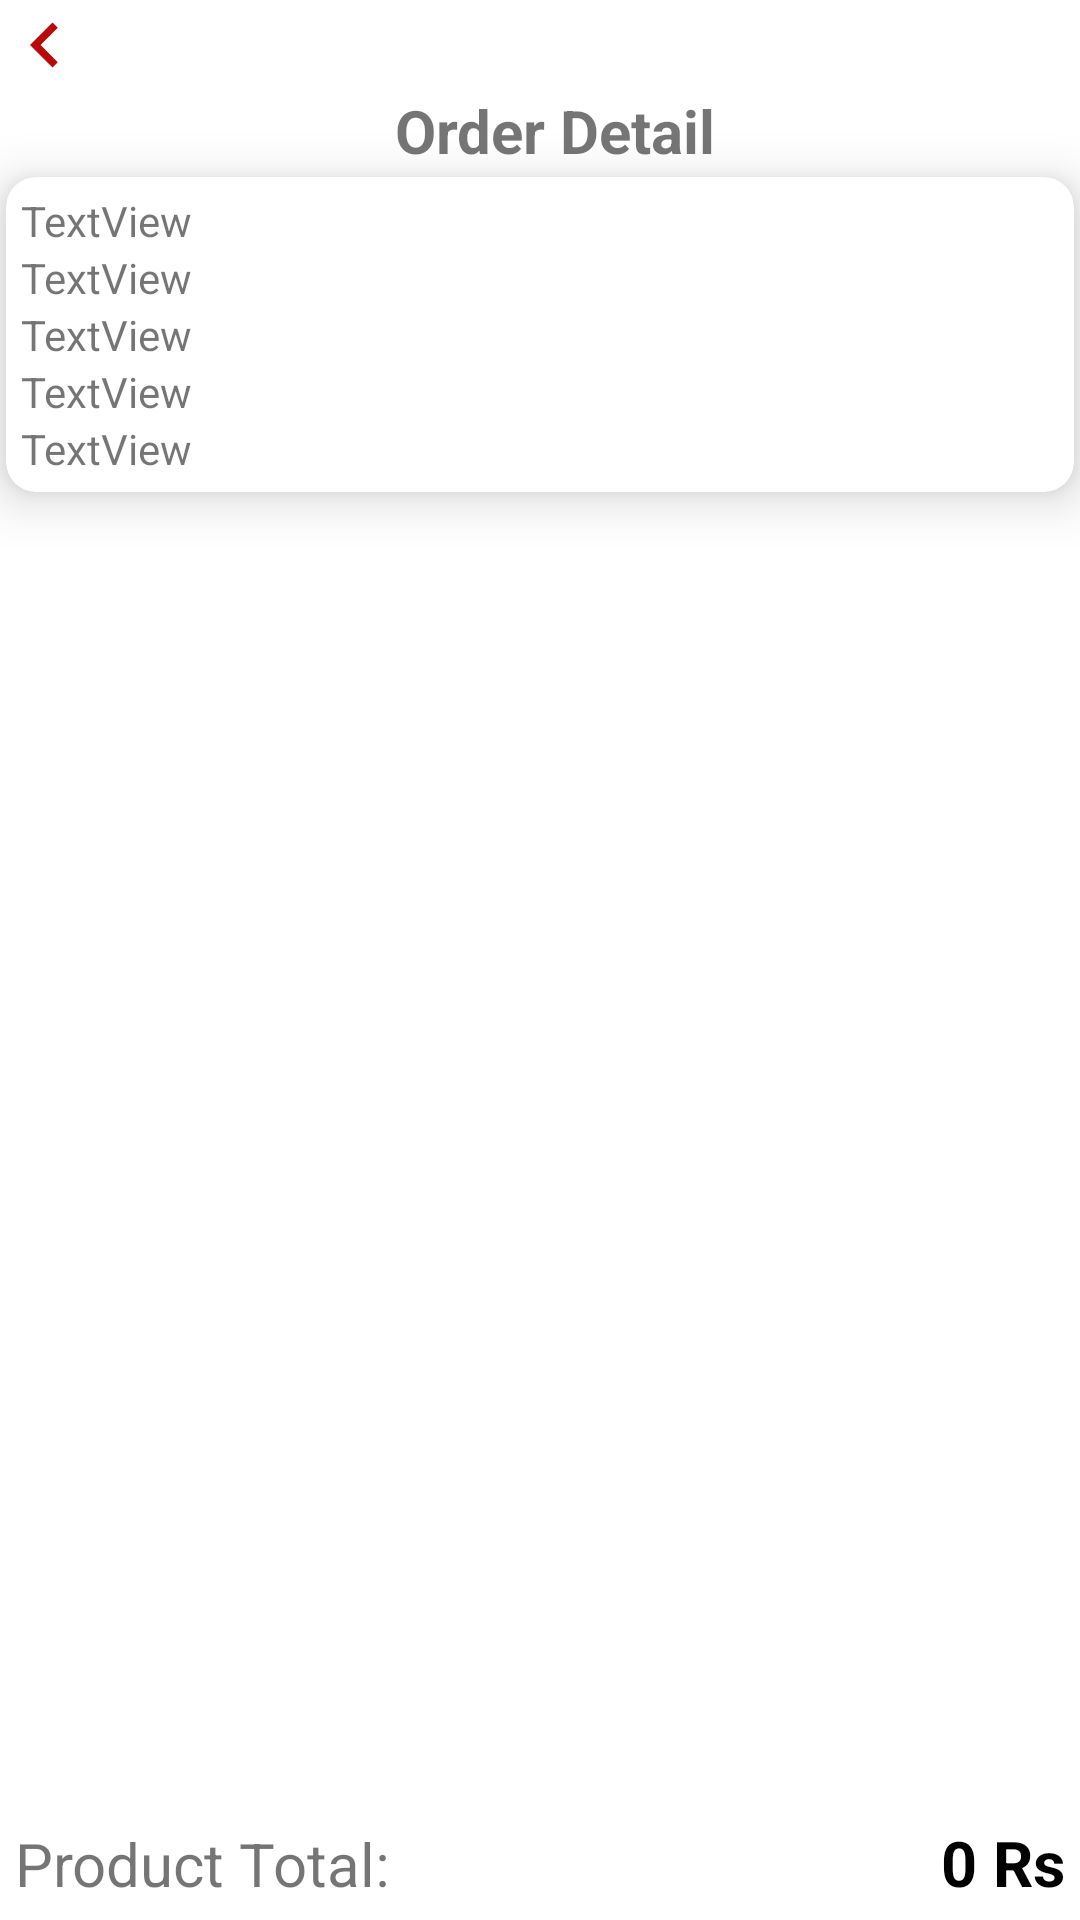

Locate icon controls on the screen. Image size 1080 × 1920, boxes as {"left": x1, "top": y1, "right": x2, "bottom": y2}.
navigate before: {"left": 30, "top": 22, "right": 58, "bottom": 68}
